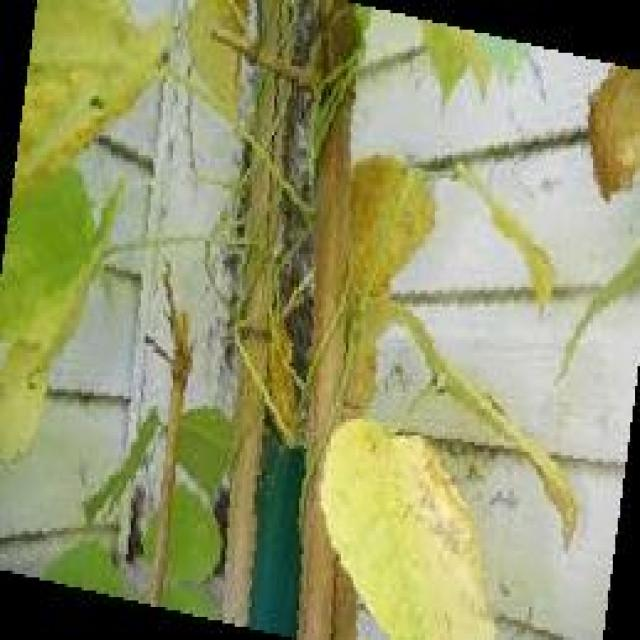Rust: (316, 422, 499, 640)
